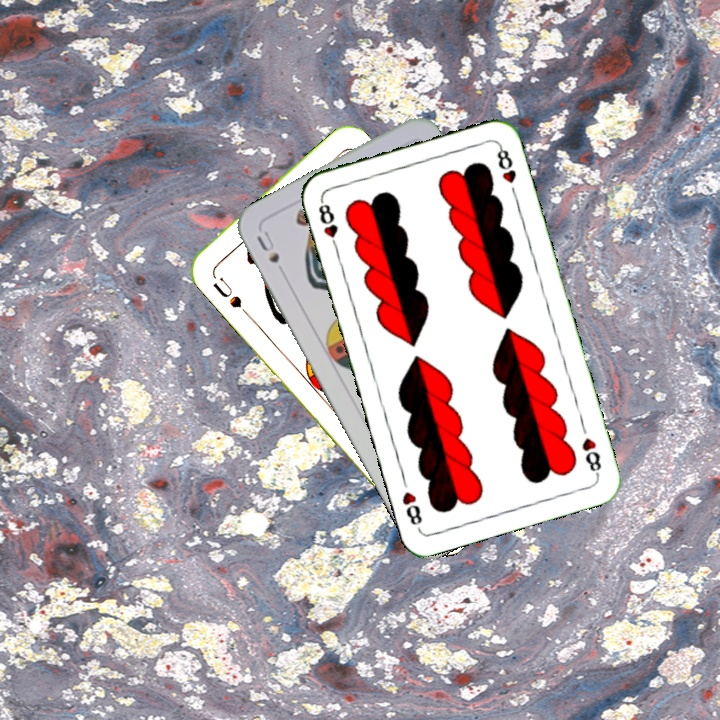H8: (314, 196, 341, 254), (578, 433, 604, 479)
SU: (209, 272, 251, 318), (252, 227, 282, 266)
